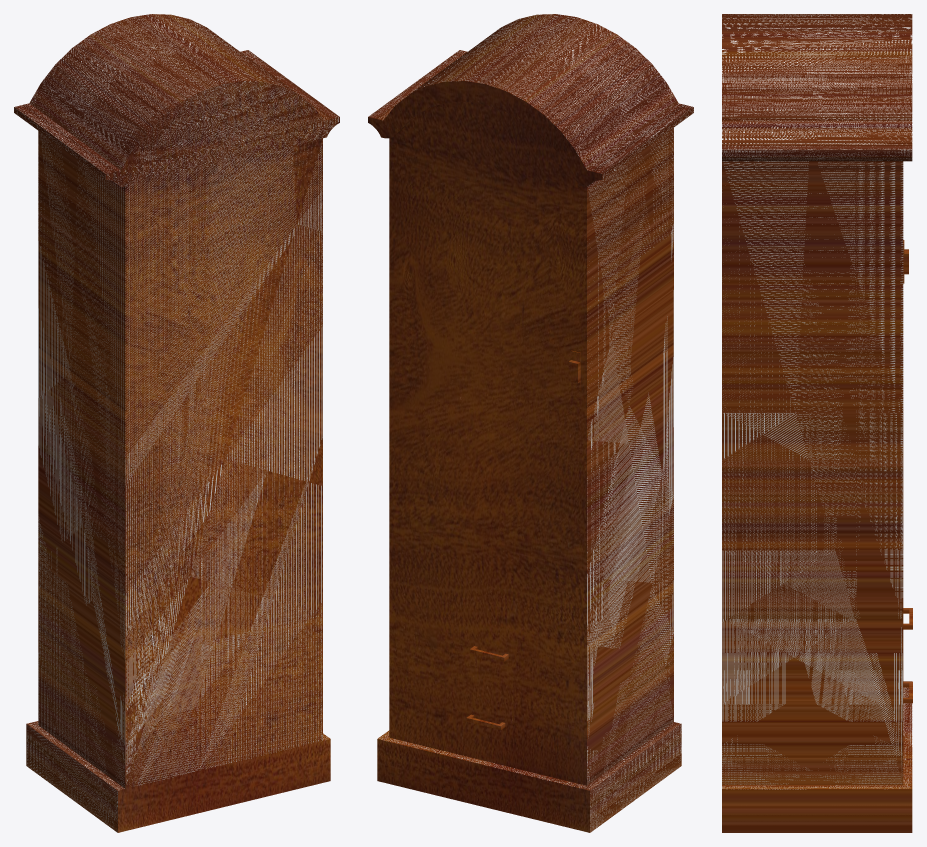
3 renders of one model, left to right at view 1: azimuth 30°, elevation 25°; view 2: azimuth 150°, elevation 25°; view 3: azimuth 270°, elevation 25°, orthographic. The views are drawn at different scales.
Parts seen in each view (by area): view 1: mesh1_mesh1-geometry; view 2: mesh1_mesh1-geometry; view 3: mesh1_mesh1-geometry.
Boxes of the visible parts, <box> form: mesh1_mesh1-geometry: <box>14,14,339,832</box>; mesh1_mesh1-geometry: <box>368,14,693,832</box>; mesh1_mesh1-geometry: <box>722,14,912,832</box>.
Bounding box in the file's own units: 0.313 × 0.9238 × 0.2125.
